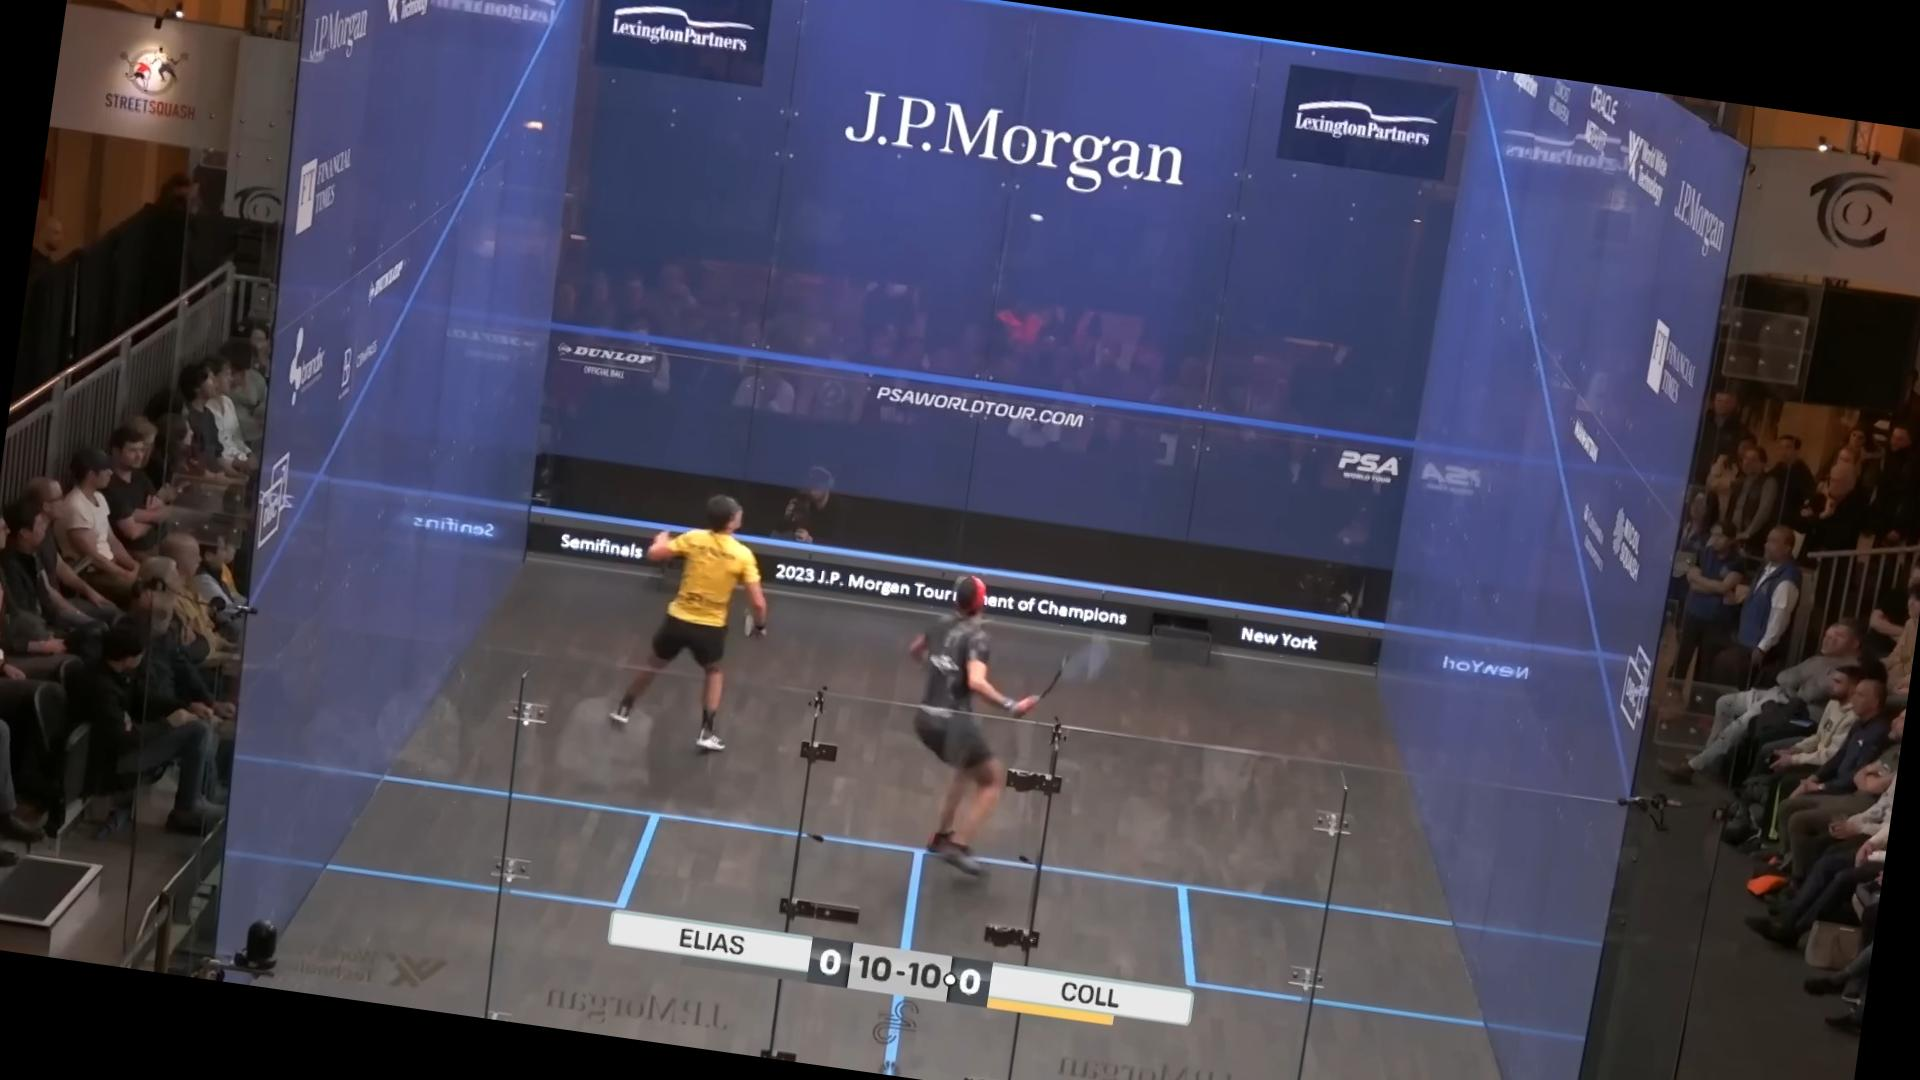Racket: (1019, 617, 1127, 724)
